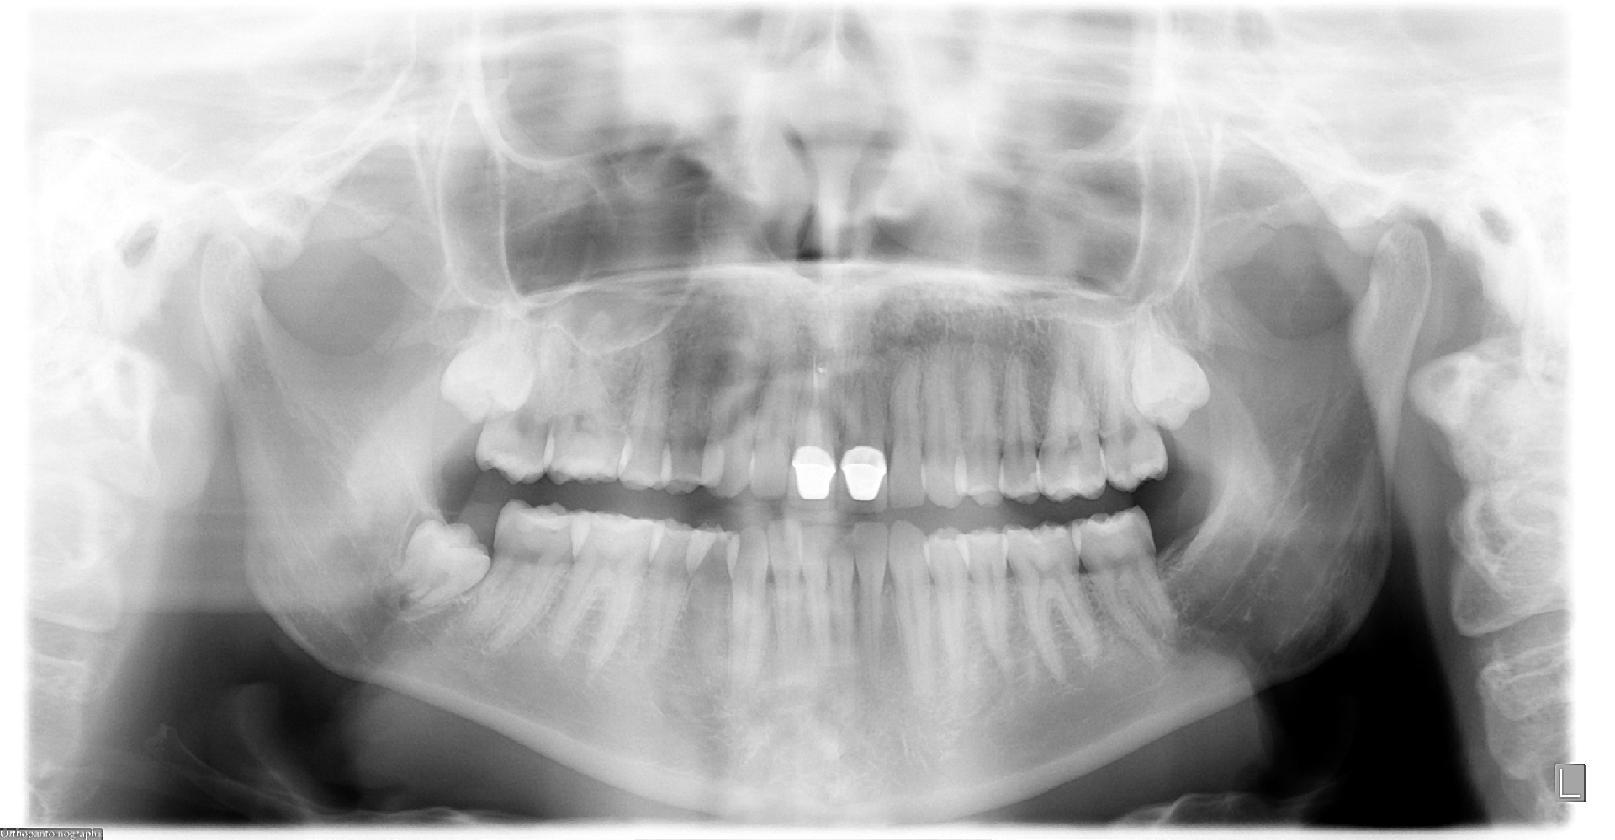Vertical: (379, 512, 493, 628)
